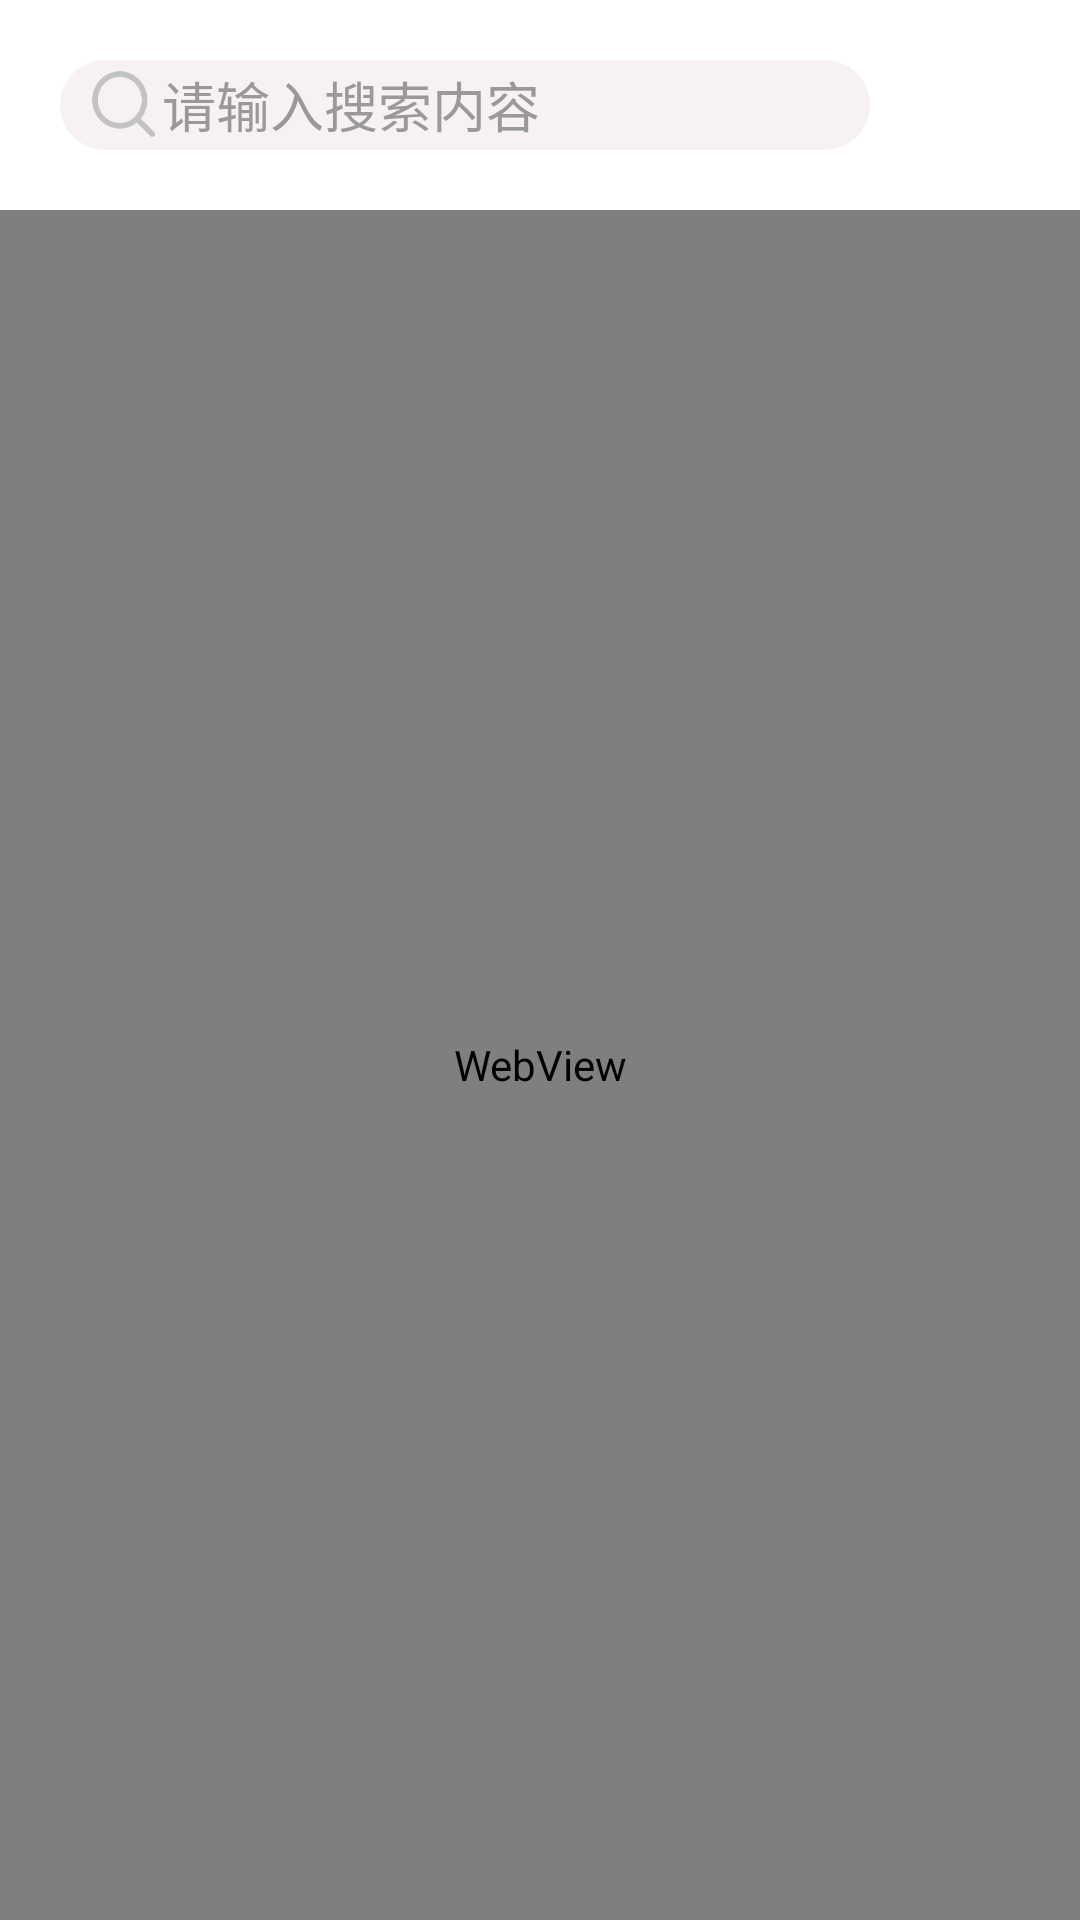

Named icons in this screenshot (1080 × 1920) and their bounding boxes, (x1=x1, y1=y1, x2=x2, y2=y2):
search: (x1=92, y1=71, x2=155, y2=137)
